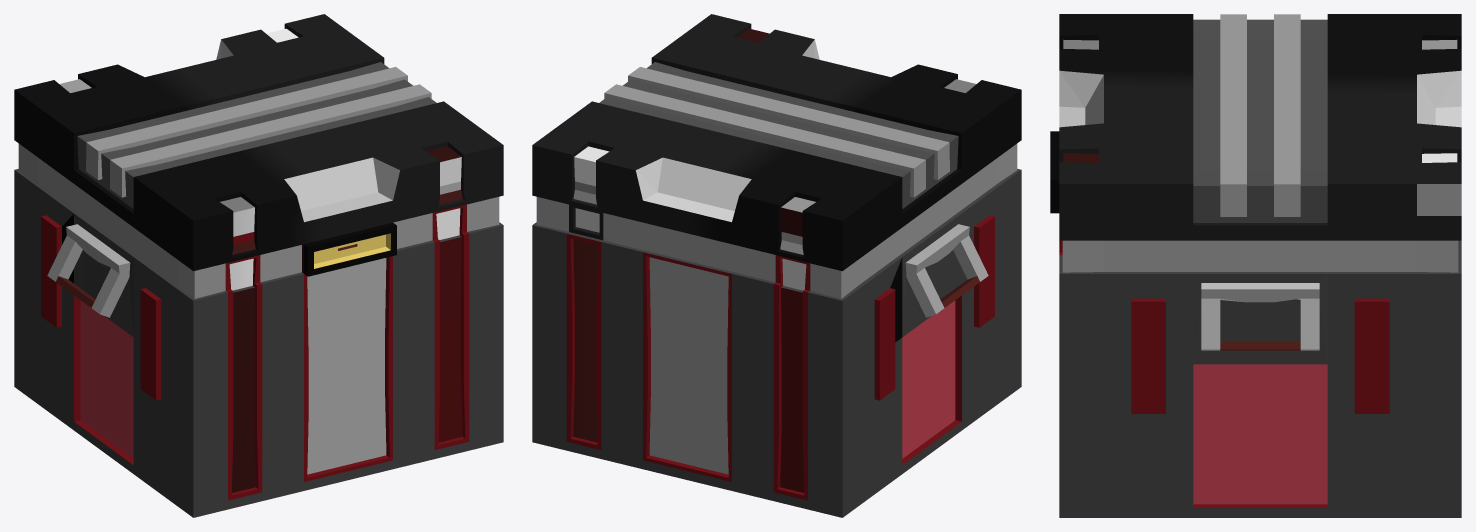
Rendered from crate.fbx.
The picture shows the model from 3 angles, left to right: view 1: azimuth 30°, elevation 25°; view 2: azimuth 150°, elevation 25°; view 3: azimuth 270°, elevation 25°; orthographic projection. The views are drawn at different scales.
Visible parts, largest first — view 1: Cube; view 2: Cube; view 3: Cube.
Part boxes in pixels (x1,y1,x2,y2): Cube: (14, 14, 503, 517); Cube: (532, 14, 1021, 517); Cube: (1050, 14, 1461, 517).
Bounding box in the file's own units: 239 × 183 × 204.
